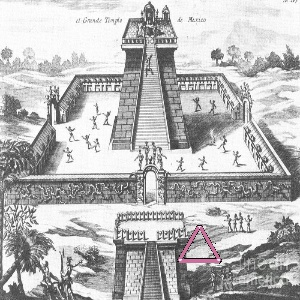triangle: (175, 222, 224, 266)
